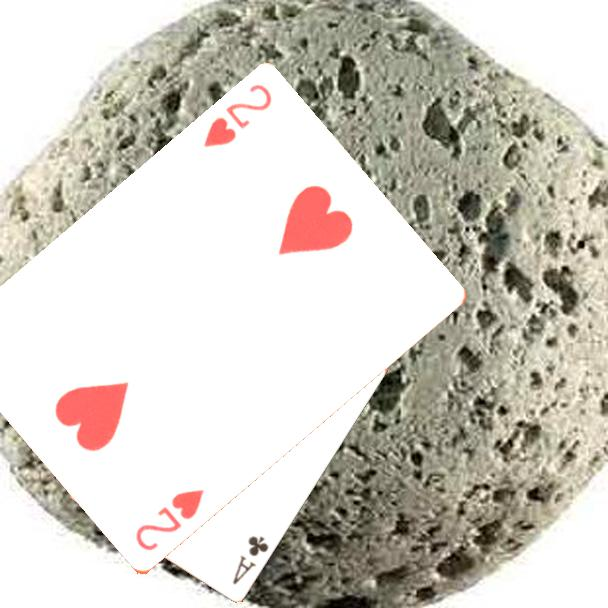c01: (229, 533, 272, 588)
h02: (199, 81, 275, 151), (131, 486, 208, 555)
